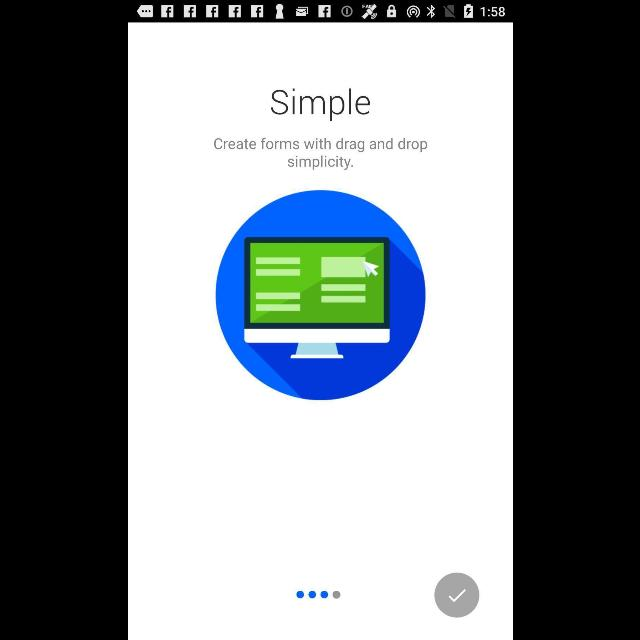button: (434, 572, 478, 618)
image: (214, 190, 426, 400)
pageindicator: (296, 590, 340, 600)
text: (213, 137, 427, 171), (270, 88, 370, 122)
uppertaskbar: (128, 1, 512, 23)
